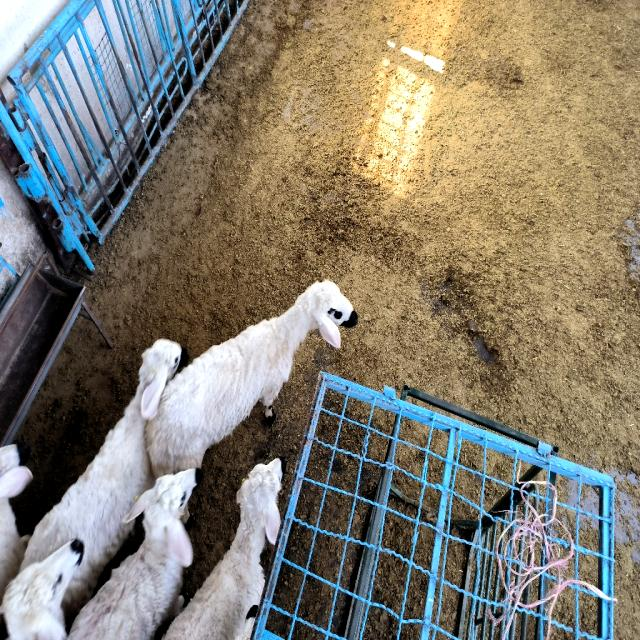sheep: (21, 338, 188, 621), (146, 282, 358, 477), (69, 468, 199, 638), (164, 458, 282, 640), (0, 538, 84, 640)
